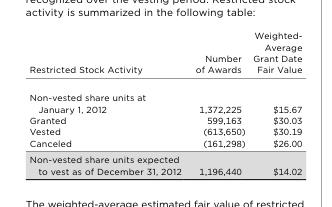table: (28, 29, 301, 175)
table column: (28, 29, 187, 175), (187, 29, 248, 175), (248, 29, 301, 175)
table column header: (28, 29, 301, 82)
table row: (28, 29, 301, 82), (28, 82, 301, 113), (28, 150, 301, 175), (28, 136, 301, 150), (28, 113, 301, 125), (28, 125, 301, 136)
